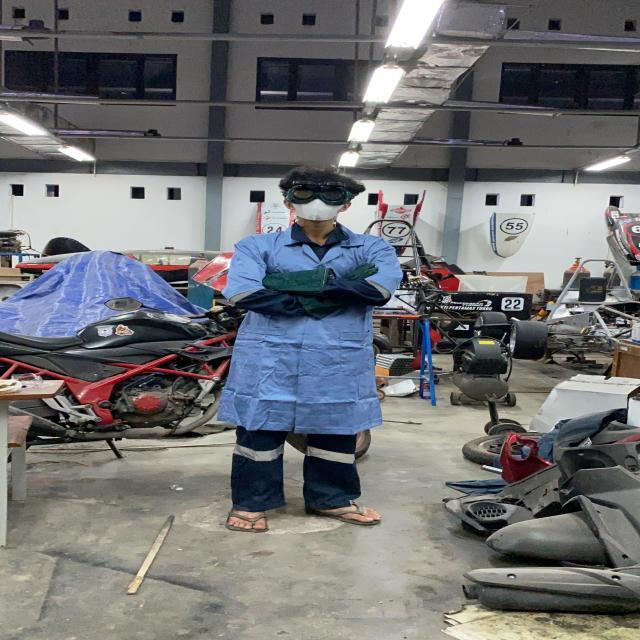glasses: (276, 176, 358, 206)
